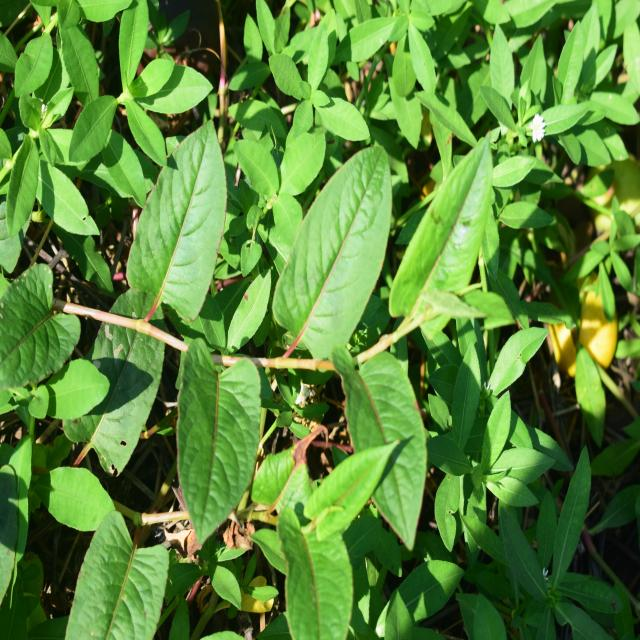Chinese_knotweed: (145, 123, 474, 521)
